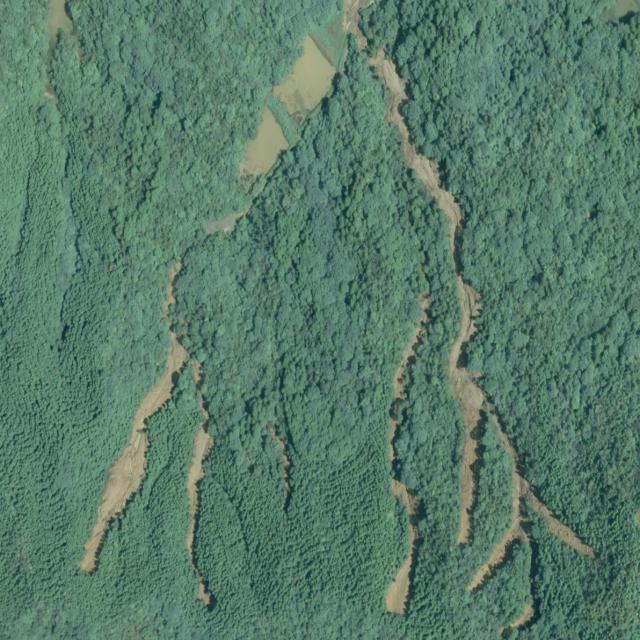landslide: (369, 47, 597, 593), (79, 261, 188, 573), (386, 294, 431, 615), (187, 393, 214, 609), (268, 424, 290, 498)
